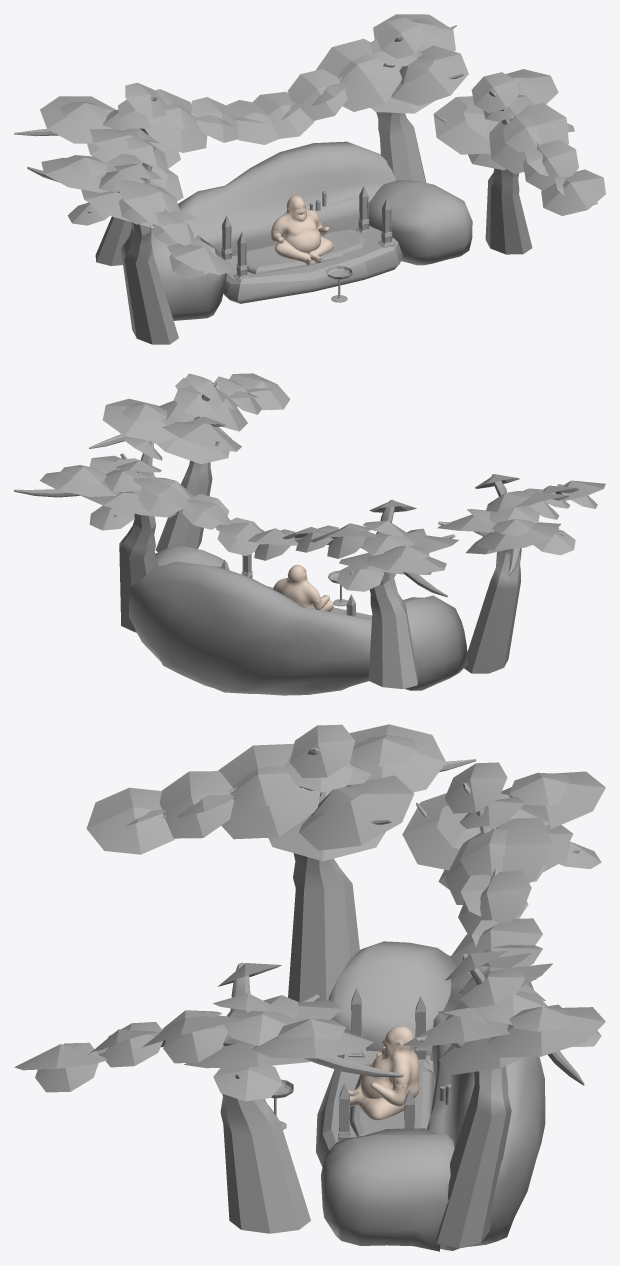
Rendered from End_All.fbx.
The picture shows the model from 3 angles, top to bottom: view 1: azimuth 30°, elevation 25°; view 2: azimuth 150°, elevation 25°; view 3: azimuth 270°, elevation 25°; orthographic projection. The views are drawn at different scales.
Visible parts, largest first — view 1: pCube13, pCylinder49 (×4), pPyramid22 (×4), pPyramid12 (×4), pPyramid23 (×4), pPyramid17 (×4), pPyramid25 (×4), pPyramid19 (×4), pPyramid18 (×4), pPyramid26 (×3), pPyramid20 (×3), ZBrush_defualt_group-retopo 1 (+11 smaller); view 2: pCube13, pCylinder49 (×4), pPyramid25 (×4), pPyramid12 (×4), pPyramid27 (×4), pPyramid26 (×3), pPyramid29 (×3), pPyramid23 (×3), pPyramid24 (×4), pPyramid22 (×2), pPyramid20 (×2), pPyramid31 (×2) (+5 smaller); view 3: pCube13, pCylinder49 (×3), pPyramid25 (×4), pPyramid23 (×4), pPyramid22 (×3), pPyramid12 (×4), pPyramid17 (×2), pPyramid26 (×4), pPyramid24 (×4), pPyramid19 (×2), pPyramid20 (×4), pPyramid18 (×2) (+8 smaller).
Boxes of the visible parts, left/top/right/bottom form: pCube13: left=151, top=141, right=472, bottom=320; pCylinder49 (×4): left=14, top=25, right=540, bottom=344; pPyramid22 (×4): left=115, top=38, right=568, bottom=226; pPyramid12 (×4): left=167, top=91, right=605, bottom=274; pPyramid23 (×4): left=90, top=45, right=490, bottom=201; pPyramid17 (×4): left=155, top=69, right=578, bottom=245; pPyramid25 (×4): left=40, top=14, right=558, bottom=192; pPyramid19 (×4): left=125, top=17, right=518, bottom=168; pPyramid18 (×4): left=139, top=54, right=542, bottom=213; pPyramid26 (×3): left=81, top=66, right=434, bottom=226; pPyramid20 (×3): left=118, top=38, right=528, bottom=128; ZBrush_defualt_group-retopo 1: left=271, top=195, right=321, bottom=253; pCube13: left=129, top=545, right=467, bottom=695; pCylinder49 (×4): left=14, top=381, right=563, bottom=688; pPyramid25 (×4): left=39, top=398, right=559, bottom=573; pPyramid12 (×4): left=216, top=373, right=605, bottom=545; pPyramid27 (×4): left=104, top=400, right=539, bottom=555; pPyramid26 (×3): left=81, top=419, right=431, bottom=574; pPyramid29 (×3): left=89, top=505, right=575, bottom=591; pPyramid23 (×3): left=162, top=422, right=495, bottom=552; pPyramid24 (×4): left=58, top=403, right=535, bottom=561; pPyramid22 (×2): left=133, top=378, right=247, bottom=513; pPyramid20 (×2): left=174, top=385, right=529, bottom=511; pPyramid31 (×2): left=182, top=494, right=338, bottom=552; pCube13: left=316, top=941, right=545, bottom=1251; pCylinder49 (×3): left=96, top=748, right=584, bottom=1248; pPyramid25 (×4): left=251, top=724, right=605, bottom=1058; pPyramid23 (×4): left=293, top=775, right=509, bottom=1046; pPyramid22 (×3): left=142, top=743, right=553, bottom=1047; pPyramid12 (×4): left=14, top=787, right=542, bottom=1070; pPyramid17 (×2): left=159, top=771, right=531, bottom=933; pPyramid26 (×4): left=184, top=790, right=573, bottom=1074; pPyramid24 (×4): left=277, top=735, right=569, bottom=1040; pPyramid19 (×2): left=290, top=724, right=507, bottom=813; pPyramid20 (×4): left=213, top=753, right=524, bottom=1011; pPyramid18 (×2): left=231, top=765, right=508, bottom=876.
Size of the model in its own units: 43.03 by 20.15 by 32.2.
